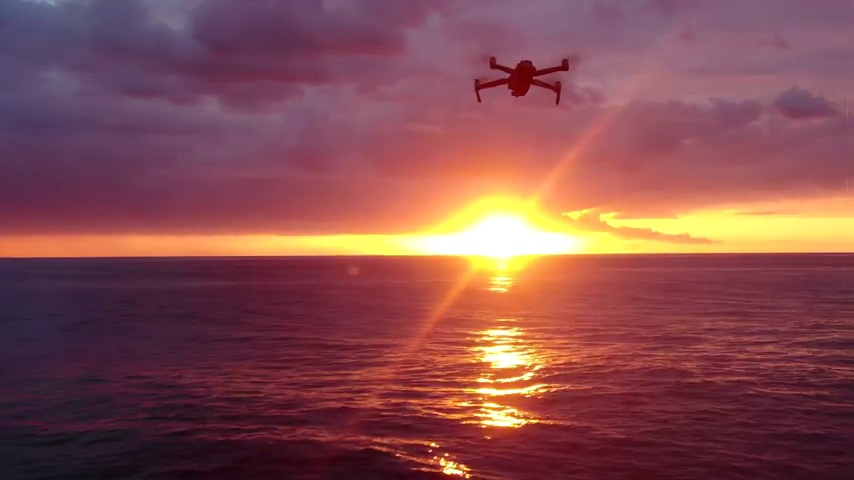drone: (474, 55, 571, 108)
